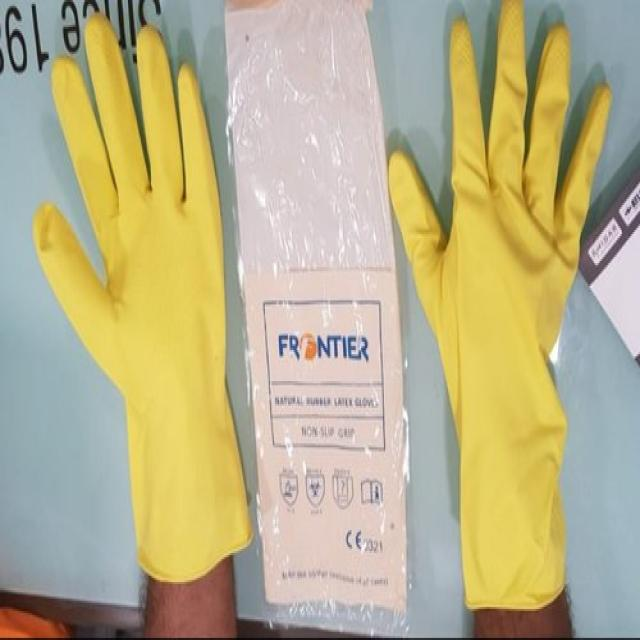gloves: (384, 0, 614, 611), (29, 15, 256, 588)
